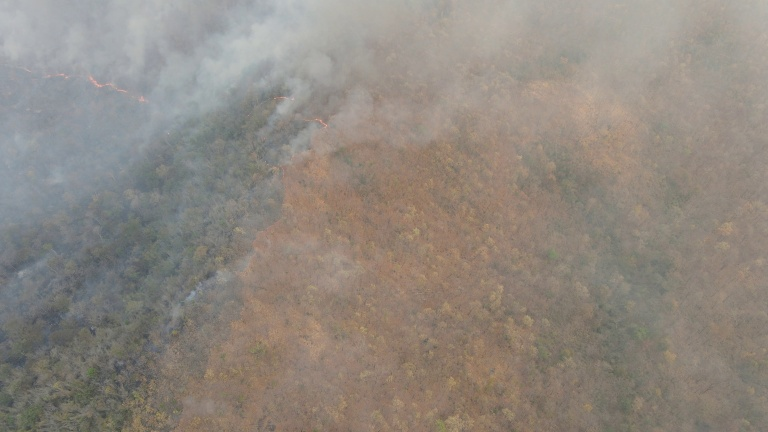fire: (14, 54, 158, 105), (262, 91, 332, 132)
smoke: (5, 1, 327, 213), (169, 236, 276, 332)
